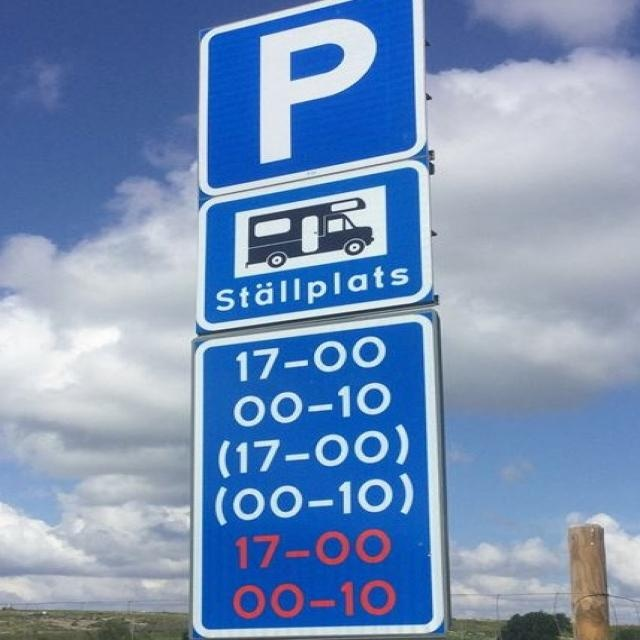P-skylt: (195, 16, 438, 175)
